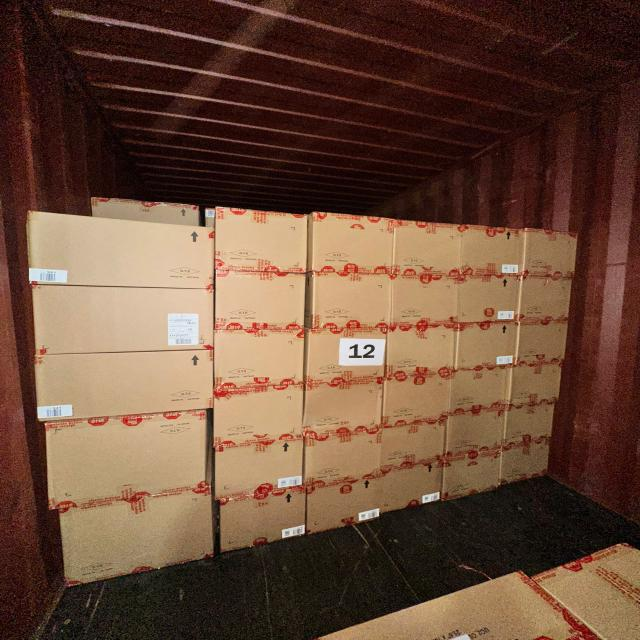Carton: (43, 410, 210, 511), (55, 486, 215, 588), (27, 216, 216, 294), (36, 348, 216, 422), (31, 288, 216, 359), (212, 205, 308, 276), (216, 486, 306, 555), (214, 436, 303, 502), (212, 328, 305, 391), (212, 384, 303, 448), (214, 269, 306, 332), (308, 210, 394, 276), (309, 270, 393, 329), (304, 426, 382, 488), (306, 475, 381, 535), (304, 332, 388, 384), (302, 378, 384, 431), (393, 218, 465, 277), (390, 272, 460, 328), (386, 324, 457, 376), (382, 372, 452, 424), (381, 416, 448, 470), (378, 459, 442, 514), (462, 228, 528, 279), (443, 405, 506, 458), (441, 448, 501, 501), (458, 274, 521, 322), (456, 323, 518, 371), (452, 368, 514, 412), (525, 228, 578, 278), (500, 437, 551, 488), (502, 400, 555, 448), (524, 276, 576, 323), (518, 322, 569, 366), (512, 366, 564, 406)
